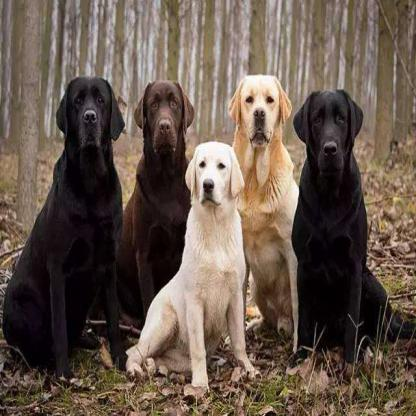dog: (5, 75, 126, 367), (127, 139, 252, 394), (291, 90, 411, 344), (225, 74, 301, 356), (122, 79, 195, 326)
